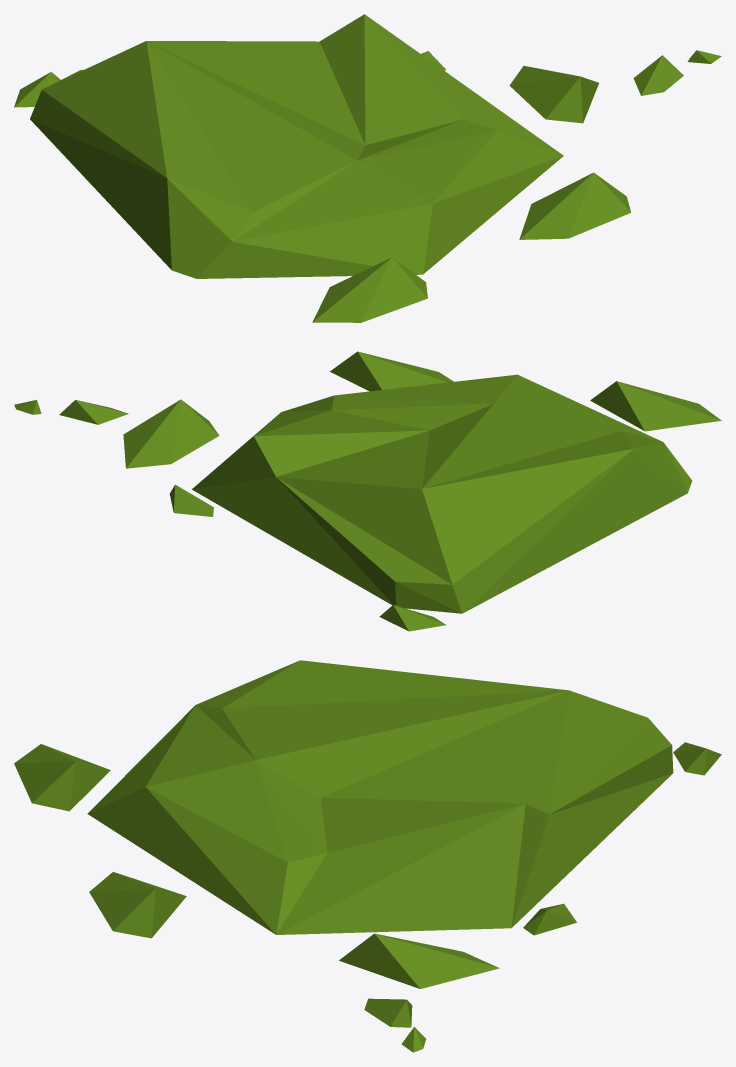
Rendered from small_moss_03a.fbx.
The picture shows the model from 3 angles, top to bottom: view 1: azimuth 30°, elevation 25°; view 2: azimuth 150°, elevation 25°; view 3: azimuth 270°, elevation 25°; orthographic projection. The views are drawn at different scales.
Visible parts, largest first — view 1: small_moss_03; view 2: small_moss_03; view 3: small_moss_03.
Boxes of the visible parts, left/top/right/bottom form: small_moss_03: left=14, top=14, right=721, bottom=322; small_moss_03: left=14, top=351, right=721, bottom=631; small_moss_03: left=14, top=660, right=721, bottom=1052.
Size of the model in its own units: 2.21 by 0.288 by 1.96.
